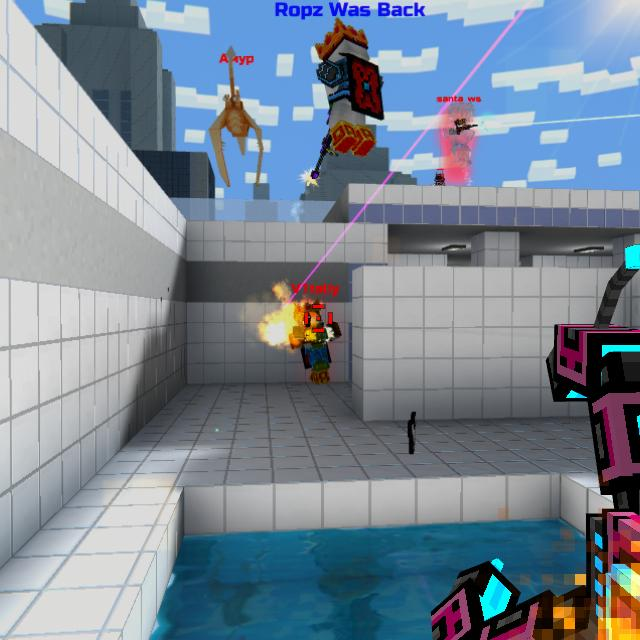Enemy: (289, 310, 341, 386), (444, 107, 477, 168)
